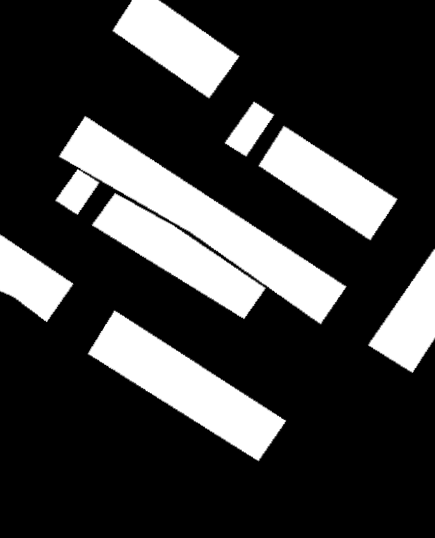parkingspot: (56, 116, 346, 324), (88, 311, 286, 461), (92, 193, 266, 319), (259, 126, 397, 240), (113, 0, 239, 98), (368, 249, 435, 373), (0, 235, 73, 322), (225, 102, 274, 156)
